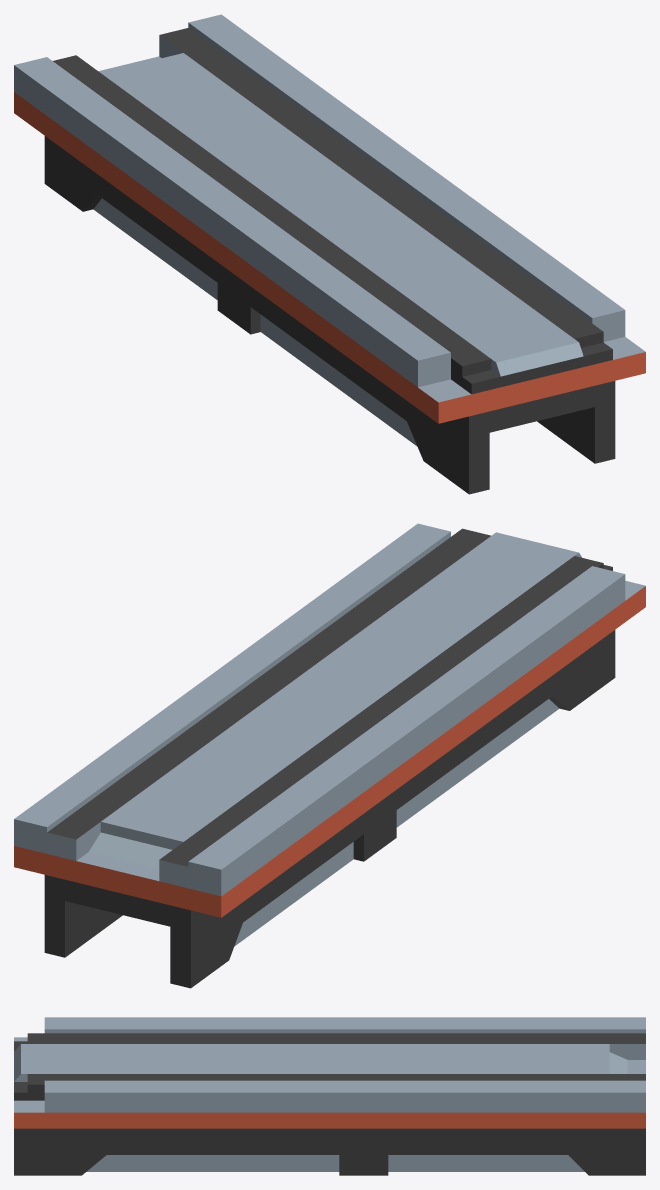
File: monorailTrain_flat_exclusive.fbx
The picture shows the model from 3 angles, top to bottom: view 1: azimuth 30°, elevation 25°; view 2: azimuth 150°, elevation 25°; view 3: azimuth 270°, elevation 25°; orthographic projection. The views are drawn at different scales.
Parts seen in each view (by area): view 1: monorailTrain_flat_exclusive; view 2: monorailTrain_flat_exclusive; view 3: monorailTrain_flat_exclusive.
Part boxes in pixels (x1,y1,x2,y2): monorailTrain_flat_exclusive: (14,14,645,494); monorailTrain_flat_exclusive: (14,523,645,988); monorailTrain_flat_exclusive: (14,1017,645,1175).
Bounding box in the file's own units: 4.06 × 2.36 × 14.4.
